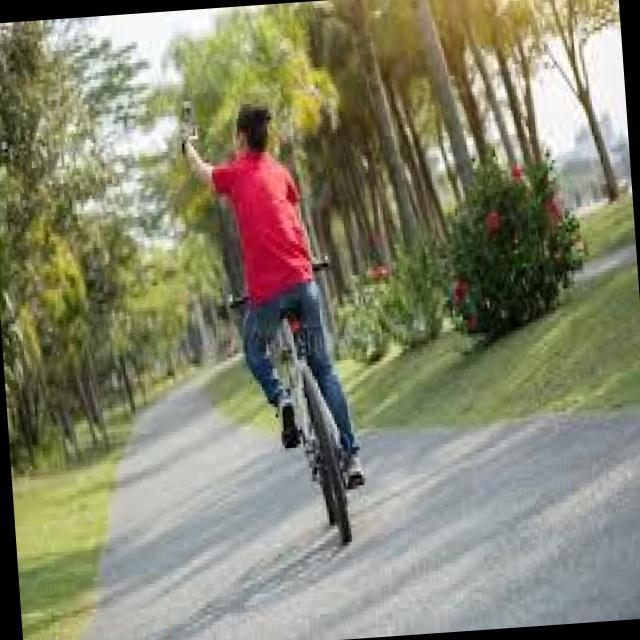USING_MOBILE: (167, 86, 238, 194)
